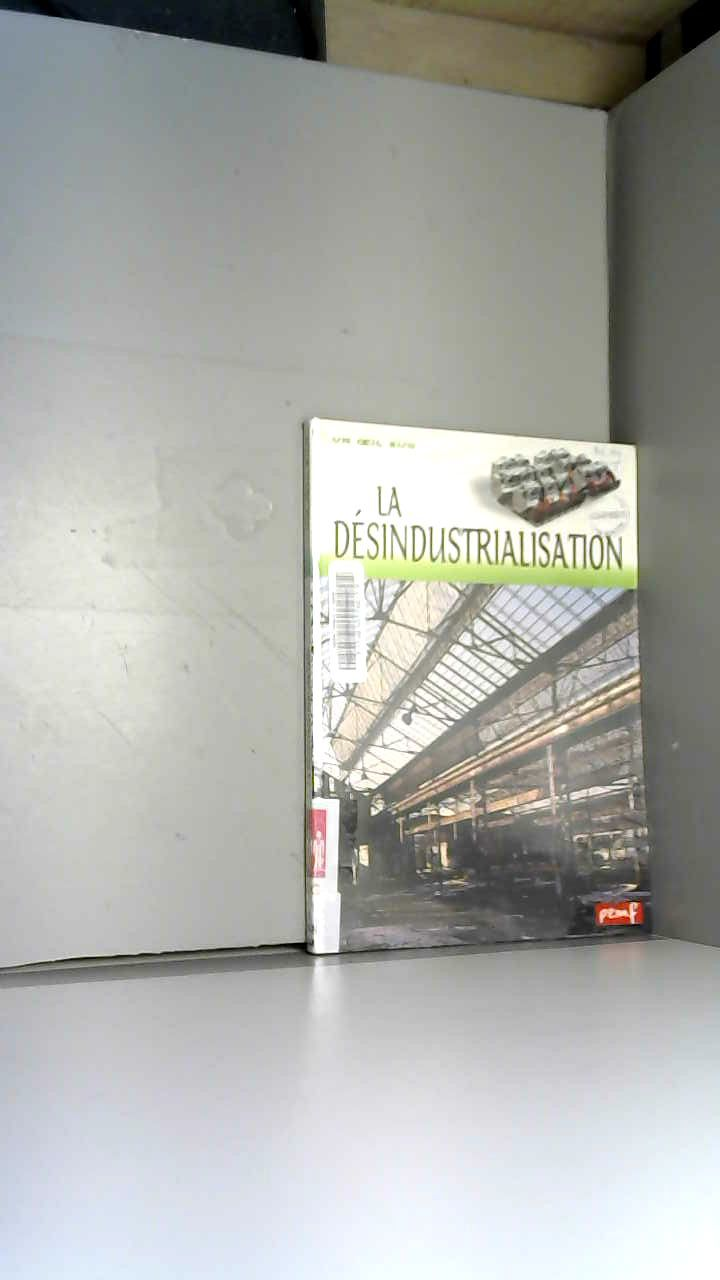book: (273, 384, 686, 998)
